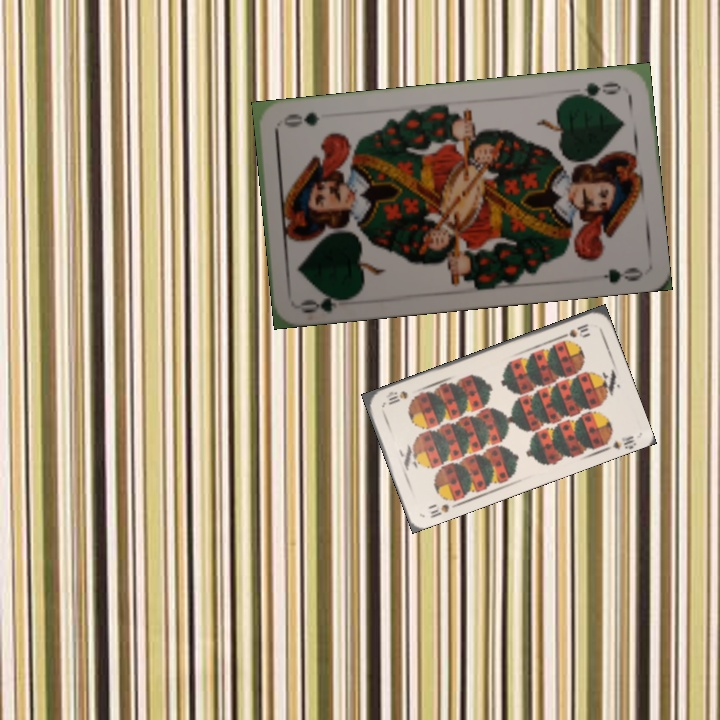GO: (296, 289, 355, 316), (567, 78, 624, 102)
S10: (556, 319, 591, 341), (426, 500, 452, 521)
